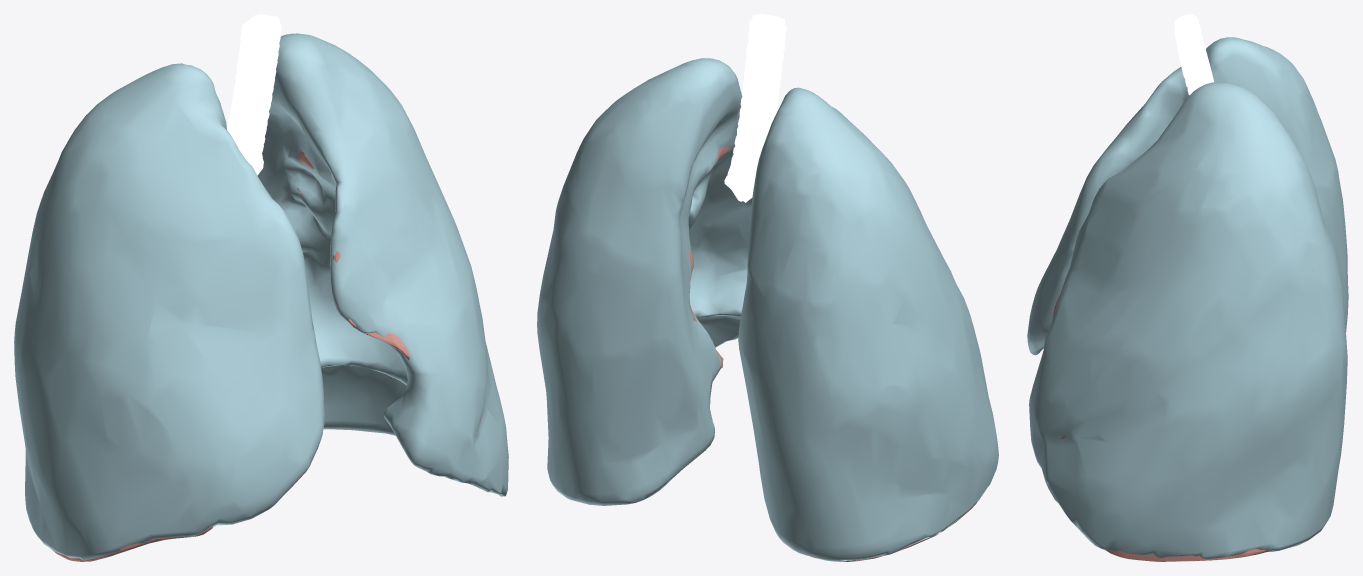
The model's file is respiratorio.lod1.glb.
3 views of the same model, side by side, from view 1: azimuth 30°, elevation 25°; view 2: azimuth 150°, elevation 25°; view 3: azimuth 270°, elevation 25° (orthographic). The views are drawn at different scales.
Visible parts, largest first — view 1: Pleura, Trachea, Superior lobe of left lung; view 2: Pleura, Trachea; view 3: Pleura, Trachea, Inferior lobe of left lung.
Part boxes in pixels (x1,y1,x2,y2): Pleura: (14,33,508,560); Trachea: (227,14,281,175); Superior lobe of left lung: (288,151,481,421); Pleura: (537,58,998,561); Trachea: (724,14,786,202); Pleura: (1027,37,1348,559); Trachea: (1174,14,1214,95); Inferior lobe of left lung: (1105,549,1268,561).
Bounding box in the file's own units: 0.2632 × 0.2936 × 0.1882.
